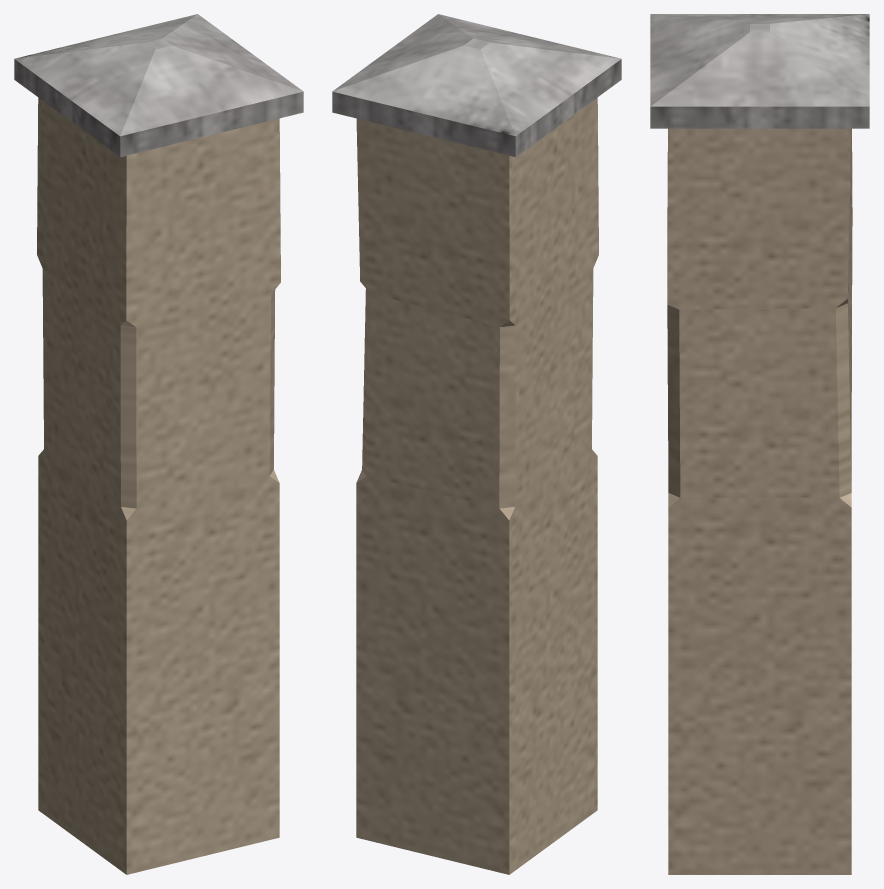
Rendered from Urban_PlasterWallColumnFancy_Model.fbx.
3 views of the same model, side by side, from view 1: azimuth 30°, elevation 25°; view 2: azimuth 150°, elevation 25°; view 3: azimuth 270°, elevation 25° (orthographic). The views are drawn at different scales.
Parts seen in each view (by area): view 1: Urban_PlasterWallColumnFancy_Mesh; view 2: Urban_PlasterWallColumnFancy_Mesh; view 3: Urban_PlasterWallColumnFancy_Mesh.
Boxes of the visible parts, x1,y1,x2,y2 form: Urban_PlasterWallColumnFancy_Mesh: (14,14,303,874); Urban_PlasterWallColumnFancy_Mesh: (332,14,621,874); Urban_PlasterWallColumnFancy_Mesh: (650,14,869,874).
Bounding box in the file's own units: 0.5279 × 2.14 × 0.5279.
